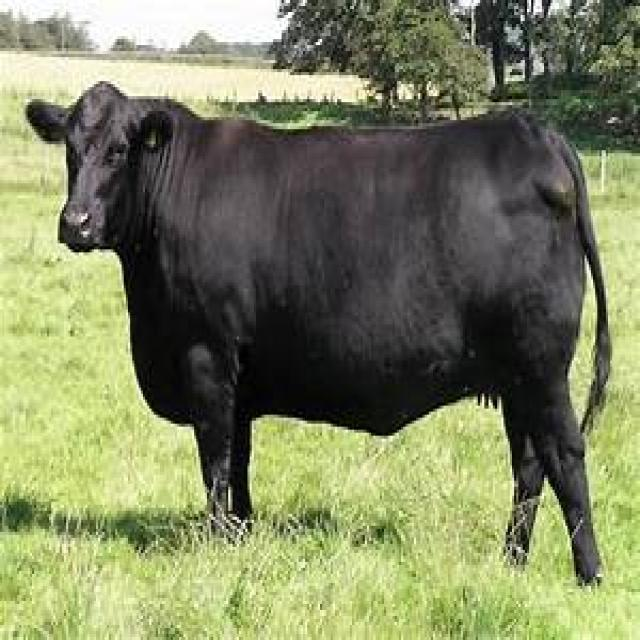cow: (26, 83, 610, 582)
